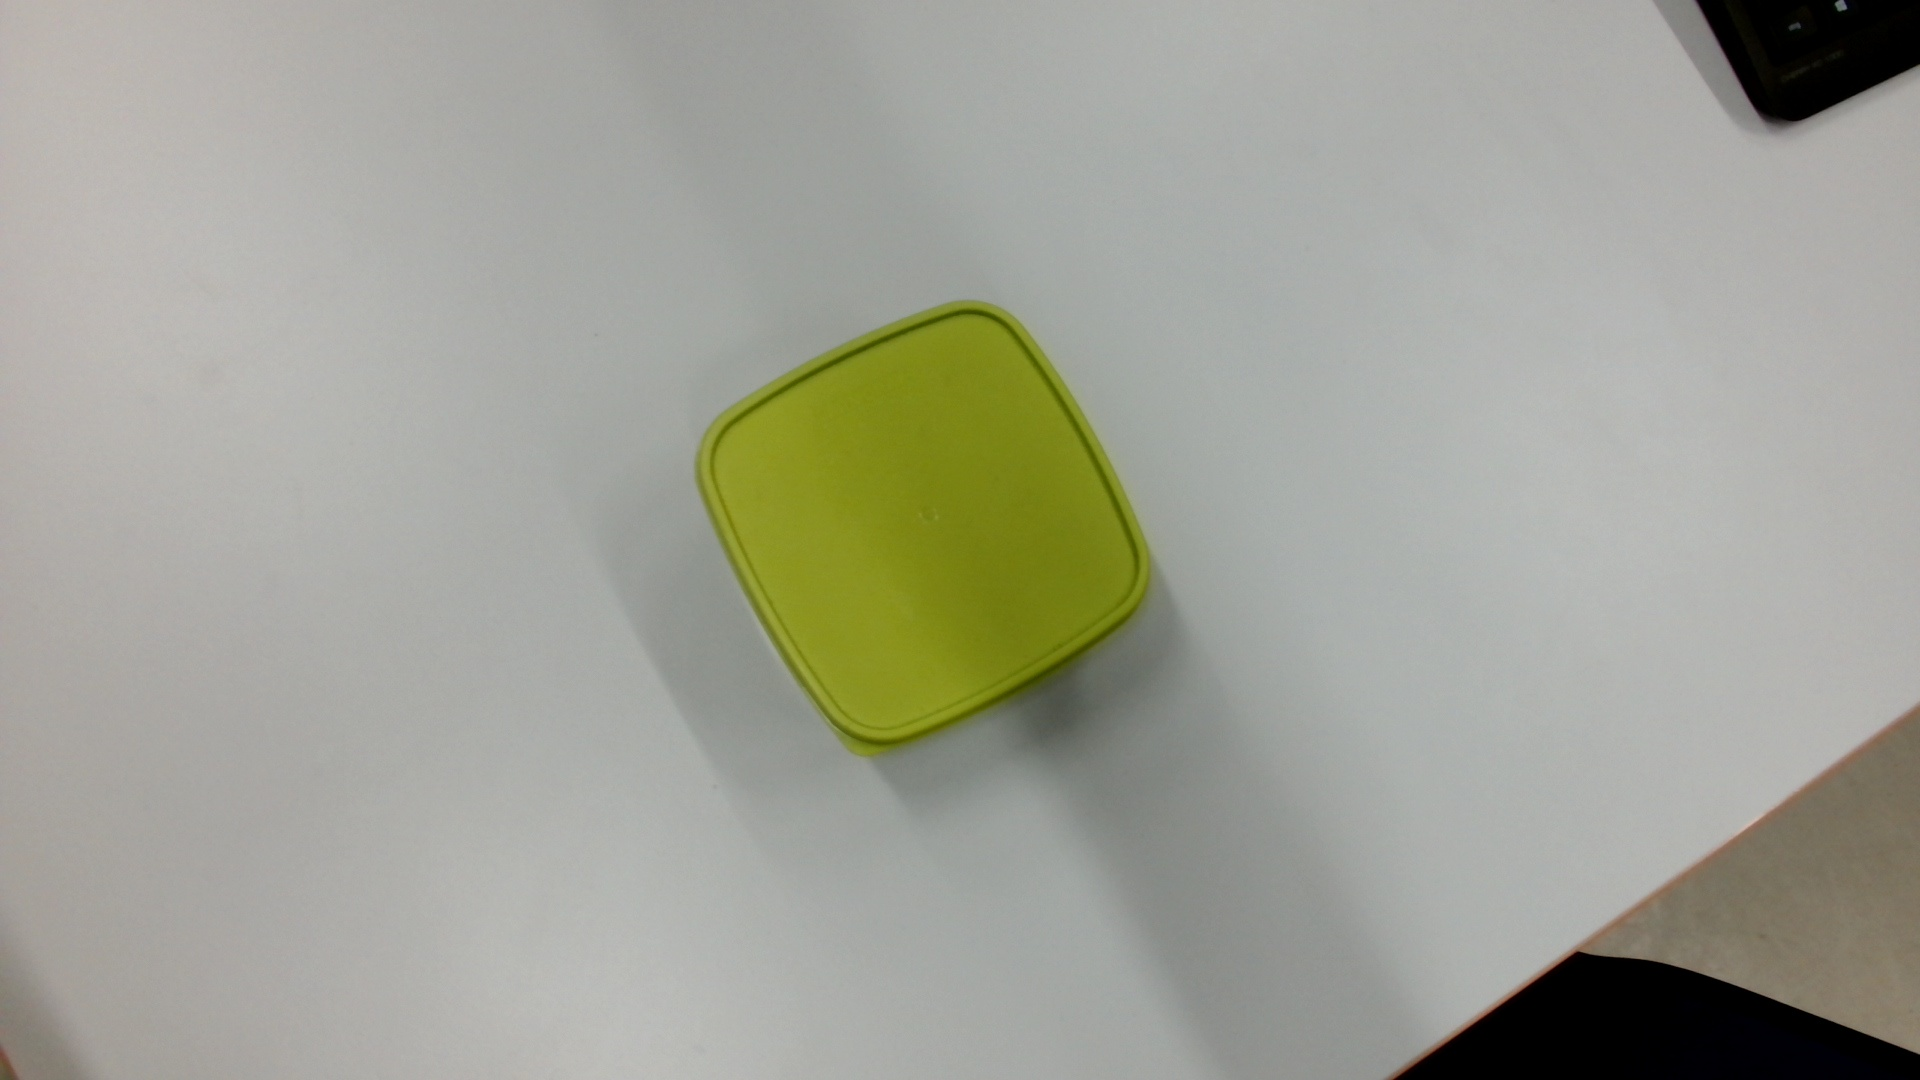Box: (688, 293, 1163, 767)
